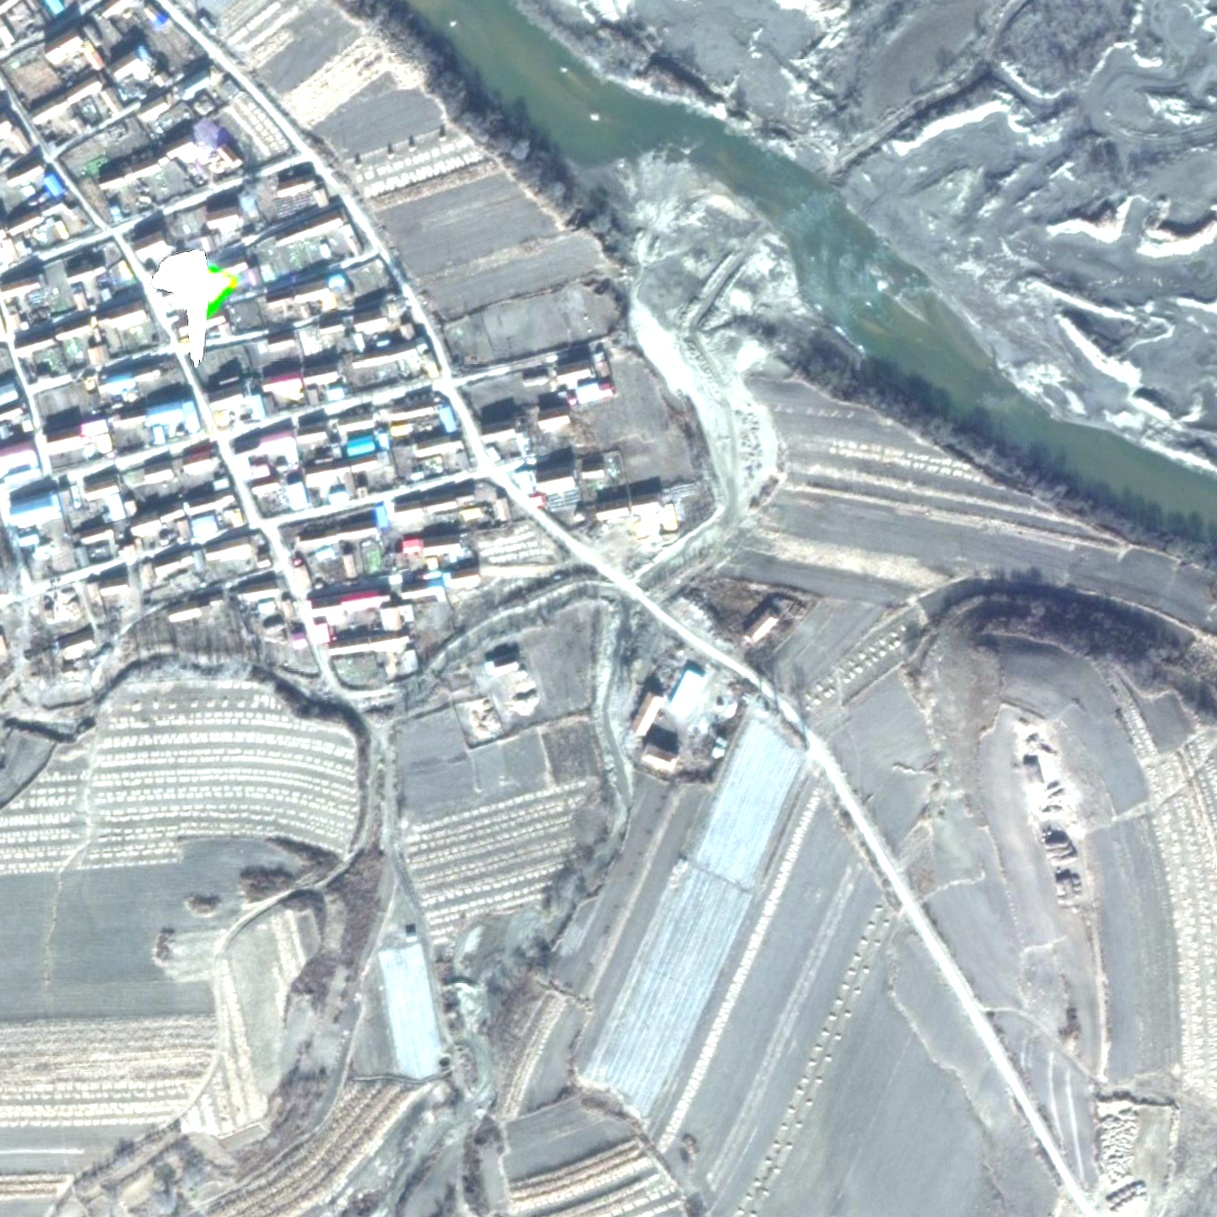slope: (625, 160, 819, 532)
